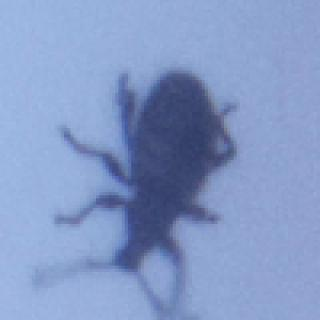bvw: (35, 69, 237, 316)
